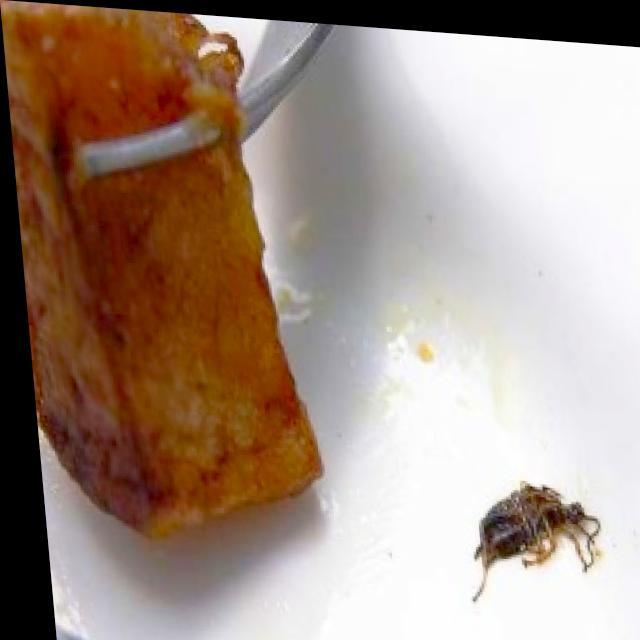cockroach: (466, 476, 605, 604)
